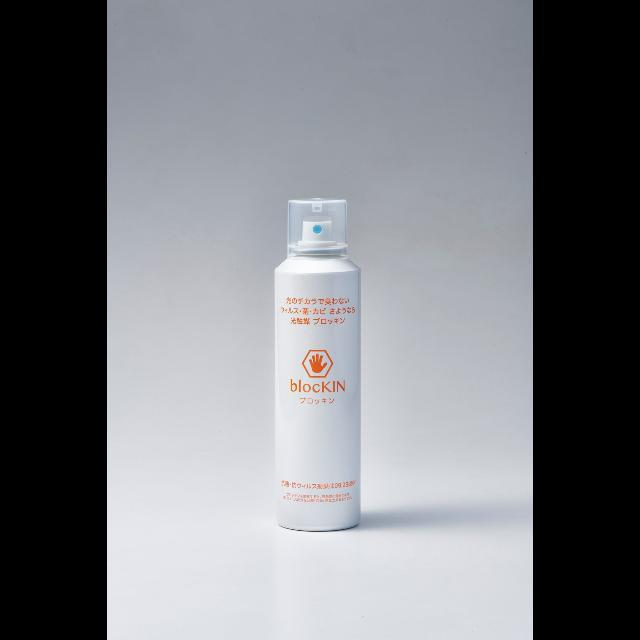chemical_spray_can: (229, 171, 399, 549)
